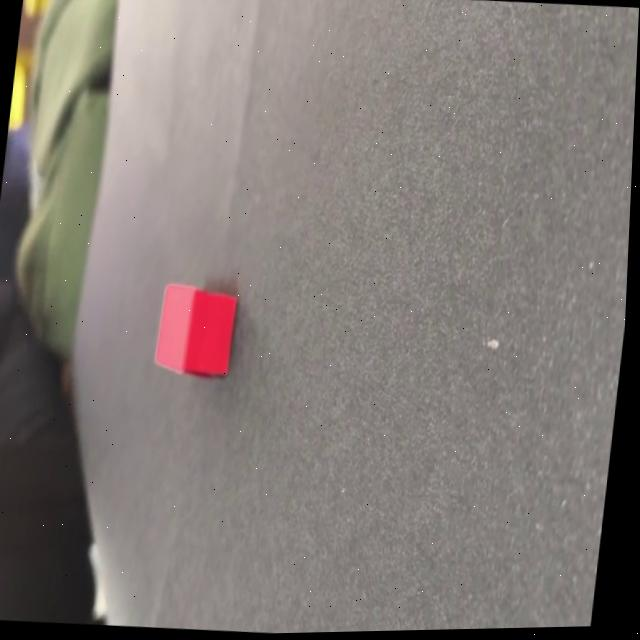red block: (149, 282, 238, 381)
